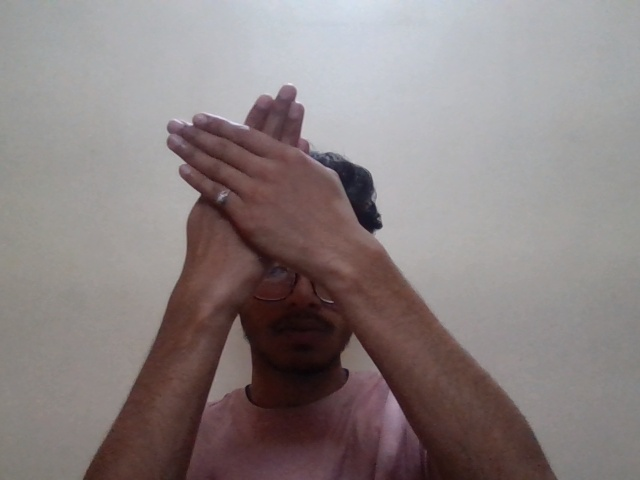what: (146, 83, 382, 312)
